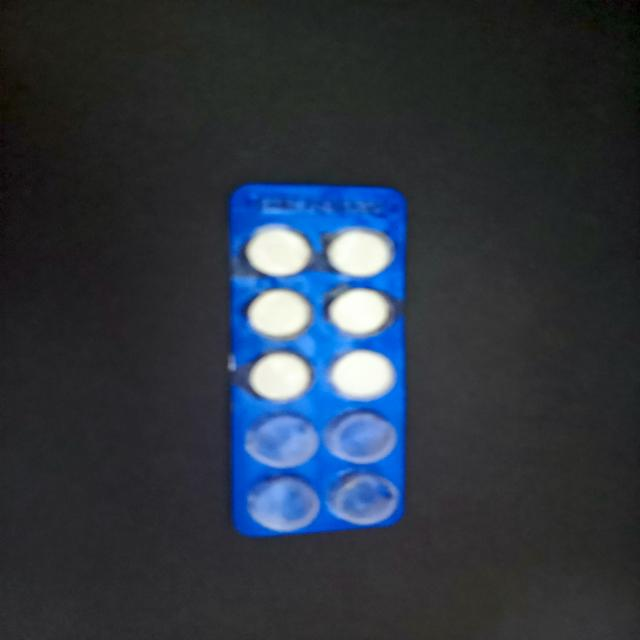defect: (244, 410, 323, 470), (245, 474, 321, 533), (325, 468, 400, 526), (326, 407, 399, 466)
